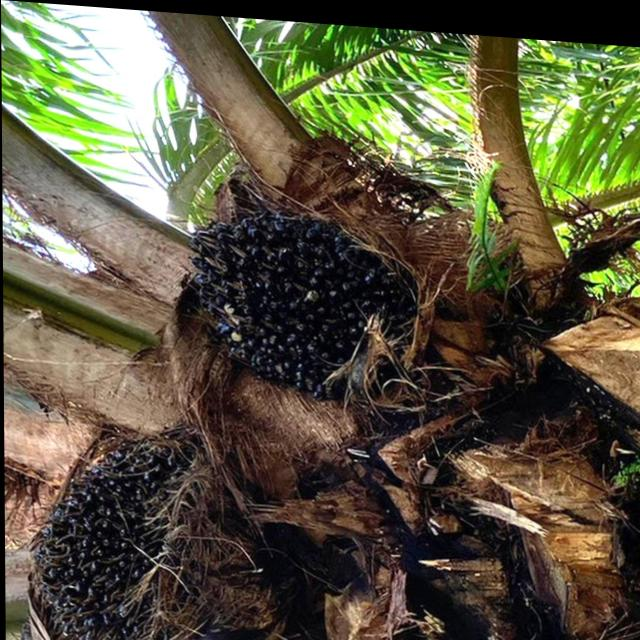unripe: (172, 194, 429, 415), (21, 416, 263, 640)
